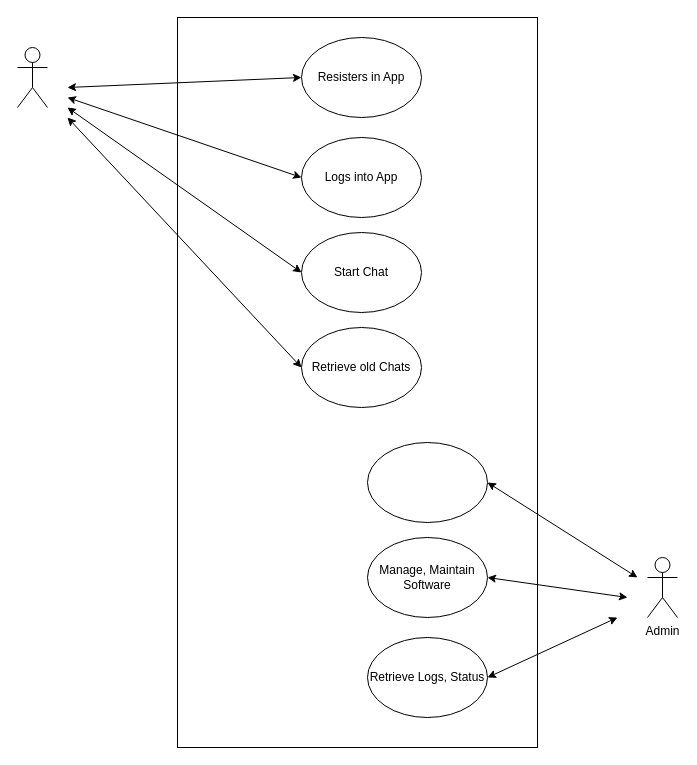
Image size: 697x765. Some labels were removed from this diagram. Here are the shapes that lost their labels. From the top down, the box of each, then its label:
(16, 46, 48, 108): User
(366, 442, 488, 522): Configure Bot
